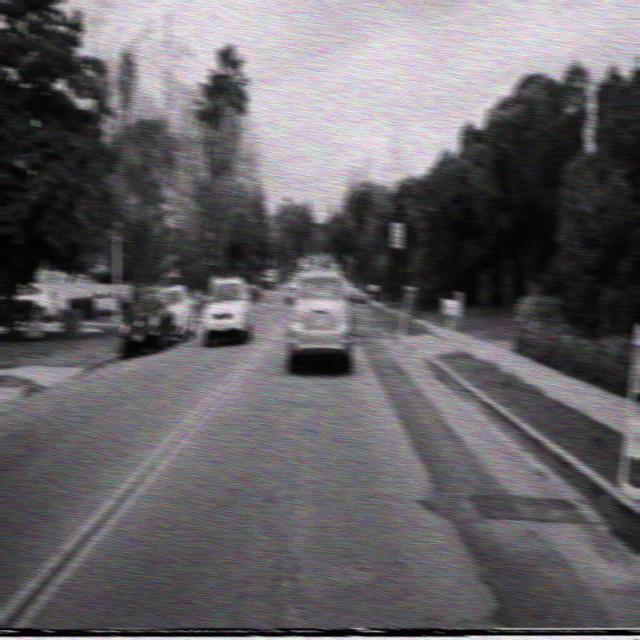speedLimit30: (390, 220, 404, 248)
